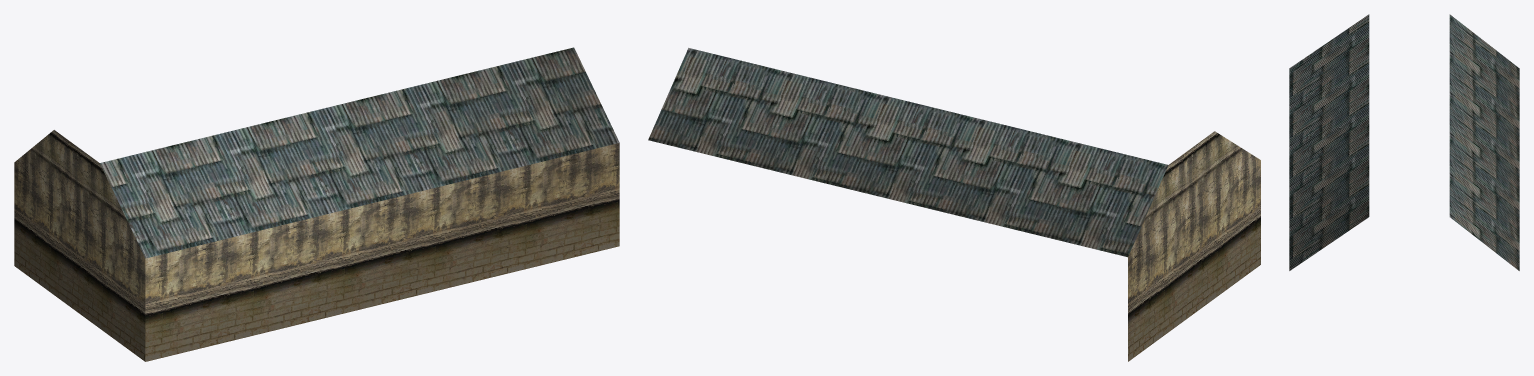
Rendered from M10_Z02_16_WareHouse02.glb.
The picture shows the model from 3 angles, left to right: view 1: azimuth 30°, elevation 25°; view 2: azimuth 150°, elevation 25°; view 3: azimuth 270°, elevation 25°; orthographic projection. The views are drawn at different scales.
Visible parts, largest first — view 1: M10_Z02_16_WAREHOUSE02; view 2: M10_Z02_16_WAREHOUSE02; view 3: M10_Z02_16_WAREHOUSE02.
Boxes of the visible parts, x1,y1,x2,y2 form: M10_Z02_16_WAREHOUSE02: (14,47,619,361); M10_Z02_16_WAREHOUSE02: (648,48,1260,361); M10_Z02_16_WAREHOUSE02: (1289,14,1519,270).
Size of the model in its own units: 24 by 8 by 11.5.
Materials: 2 (2 with a texture image).
